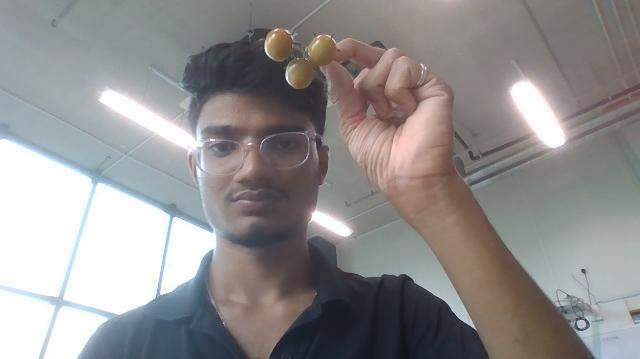Fully Grown: (306, 34, 338, 68), (264, 27, 294, 62), (285, 57, 315, 90)
